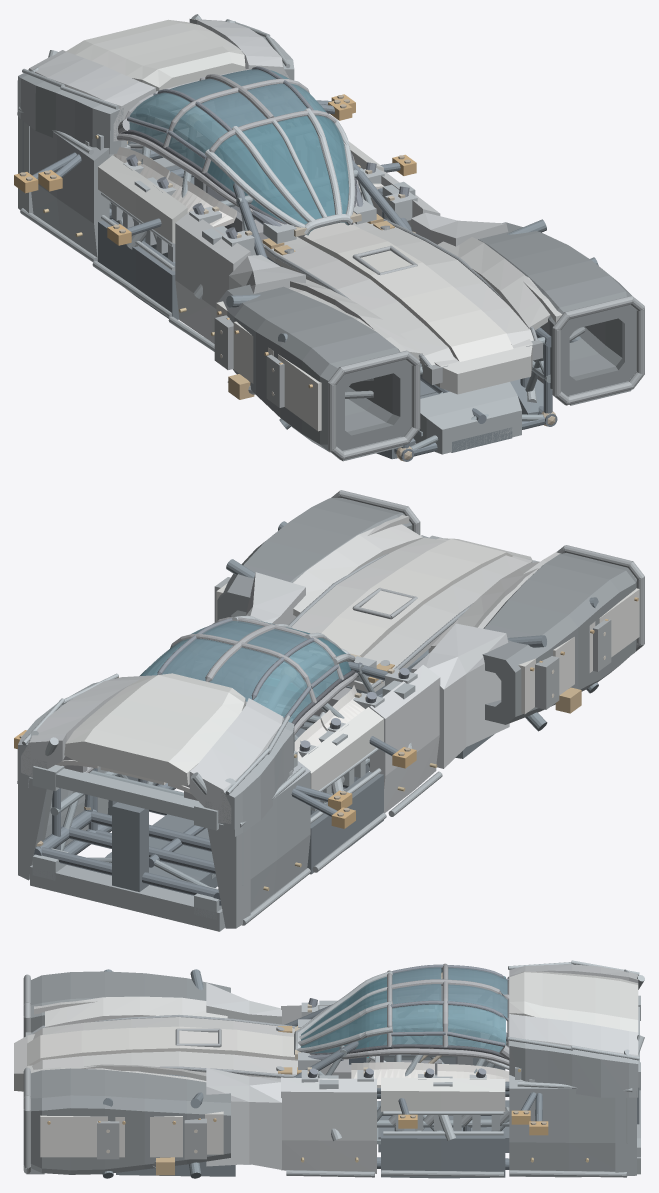
File: FORGE_V18_05_Body_Integration.glb
3 views of the same model, one above another, from view 1: azimuth 30°, elevation 25°; view 2: azimuth 150°, elevation 25°; view 3: azimuth 270°, elevation 25° (orthographic). The views are drawn at different scales.
Parts seen in each view (by area): view 1: V18_03_INTAKE_PORT_001_OpenBoreWall, V18_03_INTAKE_STBD_001_OpenBoreWall, V18_03_HOOD_010_CenterSpine, V18_05_ROOF_00_ExtendedCentralBackbone, V18_05_PORT_RemovableSideSkin_2, V18_05_PORT_RemovableSideSkin_0, V18_03_HOOD_011_PORT_PressedOuterBonnet, V18_05_NOSE_00_CentralChinArmor, V18_04_GLASS_PORT_ForwardLaminatedWindscreen, V18_03_HOOD_011_STBD_PressedOuterBonnet, V18_05_ROOF_PORT_01_SweptRearShoulder, V18_04_GLASS_STBD_ForwardLaminatedWindscreen (+39 smaller); view 2: V18_05_ROOF_00_ExtendedCentralBackbone, V18_03_INTAKE_PORT_001_OpenBoreWall, V18_03_INTAKE_STBD_001_OpenBoreWall, V18_05_PORT_FrontIntakeToCockpitShoulder, V18_03_HOOD_010_CenterSpine, V18_05_PORT_RemovableSideSkin_0, V18_05_PORT_RemovableSideSkin_2, V18_03_HOOD_011_PORT_PressedOuterBonnet, V18_05_ROOF_PORT_01_SweptRearShoulder, V18_05_TAIL_00_LowerTransomSill, V18_05_ROOF_STBD_01_SweptRearShoulder, V18_03_HOOD_011_STBD_PressedOuterBonnet (+35 smaller); view 3: V18_03_INTAKE_STBD_001_OpenBoreWall, V18_05_STBD_RemovableSideSkin_0, V18_05_STBD_RemovableSideSkin_2, V18_03_HOOD_010_CenterSpine, V18_05_ROOF_00_ExtendedCentralBackbone, V18_05_STBD_FrontIntakeToCockpitShoulder, V18_03_INTAKE_PORT_001_OpenBoreWall, V18_05_STBD_LowerRocker_1, V18_05_STBD_OuterUpperBelt_1, V18_03_HOOD_011_STBD_PressedOuterBonnet, V18_05_ROOF_STBD_01_SweptRearShoulder, V18_05_ROOF_STBD_02_AftArmorHaunch_1 (+49 smaller).
Boxes of the visible parts, bbox=[...] form: V18_03_INTAKE_PORT_001_OpenBoreWall: bbox=[218, 284, 411, 452]; V18_03_INTAKE_STBD_001_OpenBoreWall: bbox=[478, 222, 636, 396]; V18_03_HOOD_010_CenterSpine: bbox=[297, 222, 513, 361]; V18_05_ROOF_00_ExtendedCentralBackbone: bbox=[66, 19, 245, 90]; V18_05_PORT_RemovableSideSkin_2: bbox=[22, 121, 109, 261]; V18_05_PORT_RemovableSideSkin_0: bbox=[175, 211, 250, 343]; V18_03_HOOD_011_PORT_PressedOuterBonnet: bbox=[262, 237, 454, 366]; V18_05_NOSE_00_CentralChinArmor: bbox=[413, 382, 521, 454]; V18_04_GLASS_PORT_ForwardLaminatedWindscreen: bbox=[207, 123, 321, 235]; V18_03_HOOD_011_STBD_PressedOuterBonnet: bbox=[353, 222, 533, 345]; V18_05_ROOF_PORT_01_SweptRearShoulder: bbox=[28, 50, 155, 141]; V18_04_GLASS_STBD_ForwardLaminatedWindscreen: bbox=[277, 115, 348, 225]; V18_05_ROOF_00_ExtendedCentralBackbone: bbox=[64, 673, 245, 785]; V18_03_INTAKE_PORT_001_OpenBoreWall: bbox=[482, 552, 636, 724]; V18_03_INTAKE_STBD_001_OpenBoreWall: bbox=[217, 498, 412, 620]; V18_05_PORT_FrontIntakeToCockpitShoulder: bbox=[411, 623, 509, 768]; V18_03_HOOD_010_CenterSpine: bbox=[321, 539, 512, 657]; V18_05_PORT_RemovableSideSkin_0: bbox=[370, 665, 440, 812]; V18_05_PORT_RemovableSideSkin_2: bbox=[242, 761, 310, 911]; V18_03_HOOD_011_PORT_PressedOuterBonnet: bbox=[348, 555, 528, 692]; V18_05_ROOF_PORT_01_SweptRearShoulder: bbox=[189, 698, 284, 823]; V18_05_TAIL_00_LowerTransomSill: bbox=[30, 865, 225, 931]; V18_05_ROOF_STBD_01_SweptRearShoulder: bbox=[21, 675, 155, 776]; V18_03_HOOD_011_STBD_PressedOuterBonnet: bbox=[292, 537, 446, 633]; V18_03_INTAKE_STBD_001_OpenBoreWall: bbox=[31, 1068, 230, 1174]; V18_05_STBD_RemovableSideSkin_0: bbox=[281, 1077, 376, 1173]; V18_05_STBD_RemovableSideSkin_2: bbox=[509, 1075, 627, 1177]; V18_03_HOOD_010_CenterSpine: bbox=[27, 1026, 297, 1065]; V18_05_ROOF_00_ExtendedCentralBackbone: bbox=[509, 971, 638, 1032]; V18_05_STBD_FrontIntakeToCockpitShoulder: bbox=[206, 1067, 281, 1169]; V18_03_INTAKE_PORT_001_OpenBoreWall: bbox=[31, 971, 230, 1032]; V18_05_STBD_LowerRocker_1: bbox=[381, 1132, 505, 1178]; V18_05_STBD_OuterUpperBelt_1: bbox=[381, 1077, 505, 1111]; V18_03_HOOD_011_STBD_PressedOuterBonnet: bbox=[32, 1051, 297, 1078]; V18_05_ROOF_STBD_01_SweptRearShoulder: bbox=[509, 1014, 638, 1056]; V18_05_ROOF_STBD_02_AftArmorHaunch_1: bbox=[572, 1049, 638, 1097].
Size of the model in its own units: 4.2 by 2.17 by 7.91.
